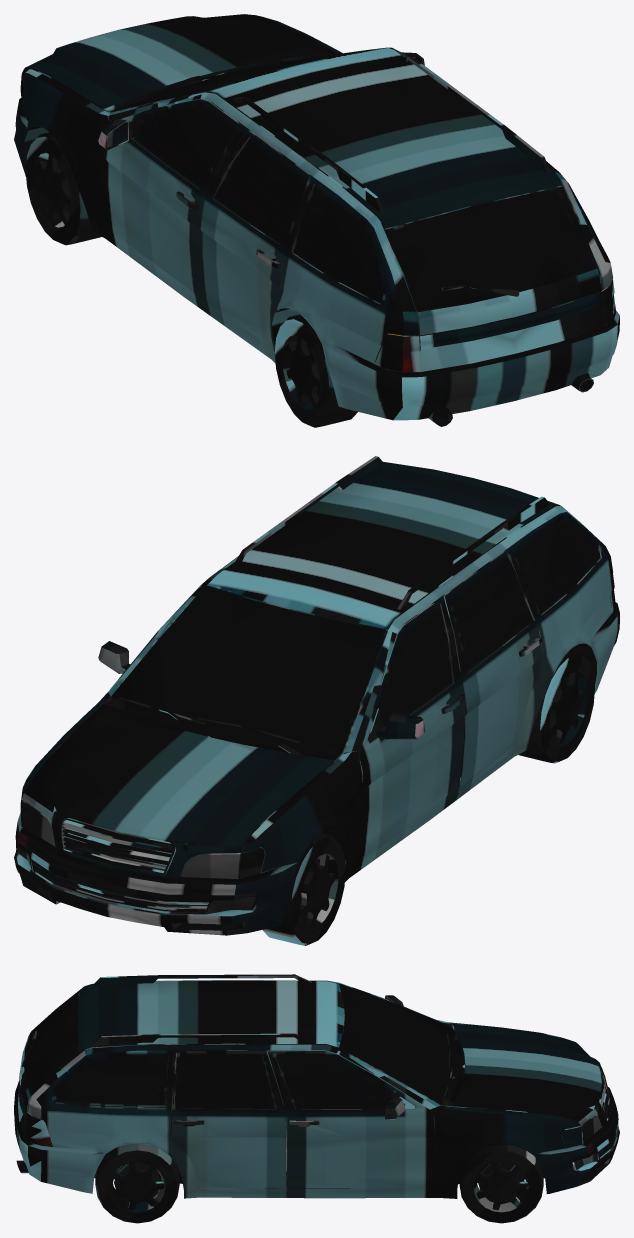
The model's file is wagon.glb.
The picture shows the model from 3 angles, top to bottom: view 1: azimuth 30°, elevation 25°; view 2: azimuth 150°, elevation 25°; view 3: azimuth 270°, elevation 25°; orthographic projection. The views are drawn at different scales.
Visible parts, largest first — view 1: lod0; view 2: lod0; view 3: lod0.
Boxes of the visible parts, bbox=[...] form: lod0: bbox=[14, 14, 619, 427]; lod0: bbox=[14, 456, 619, 945]; lod0: bbox=[14, 974, 619, 1223].
Size of what is drawn, in the model's own units: 2.09 by 1.48 by 4.7.
1 material, 1 textured.
